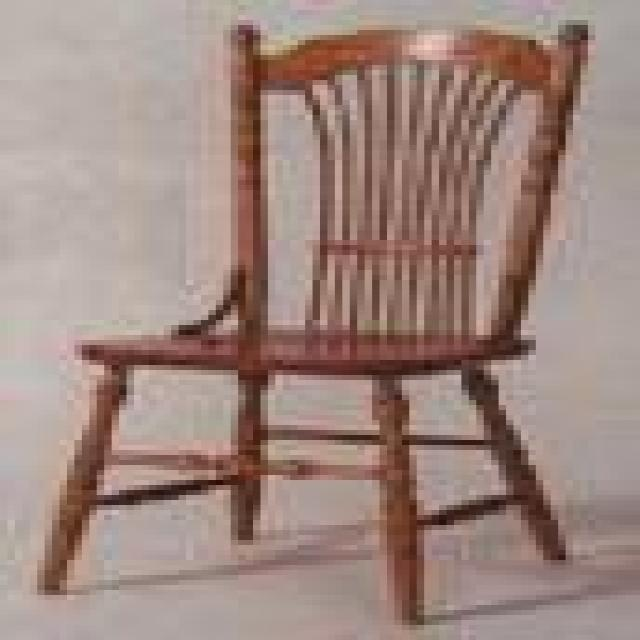chair: (38, 21, 595, 628)
